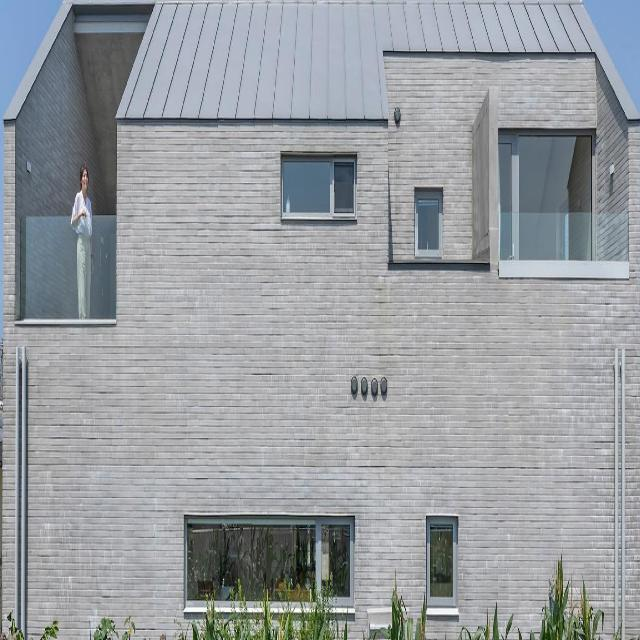Railing: (22, 213, 118, 323), (500, 212, 629, 260)
wall: (3, 0, 640, 638)
windows: (186, 516, 354, 610), (498, 132, 593, 208), (282, 154, 355, 214), (429, 517, 455, 605), (415, 193, 441, 256)
